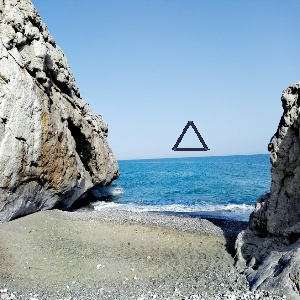triangle: (168, 117, 212, 157)
